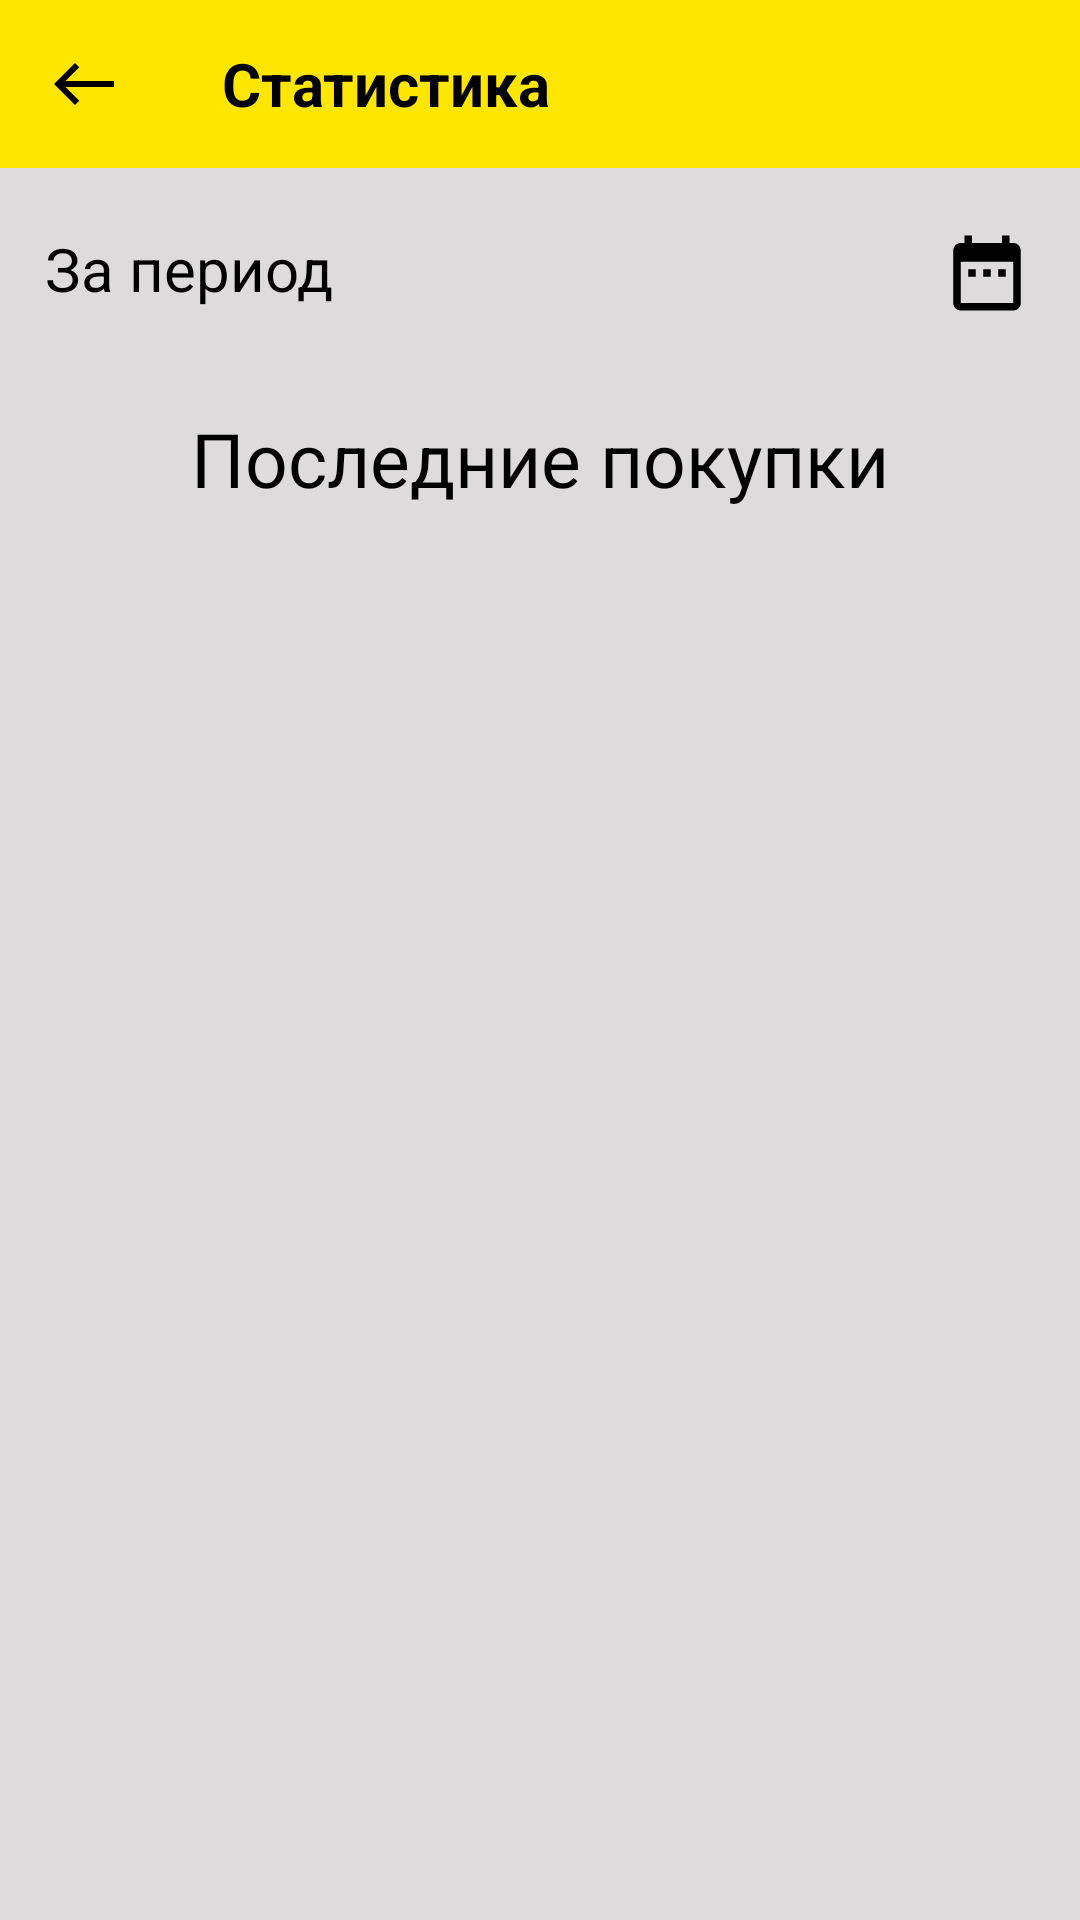

Named icons in this screenshot (1080 x 1920) and their centers, point (x, y):
back: point (84, 84)
calendar: point (987, 273)
